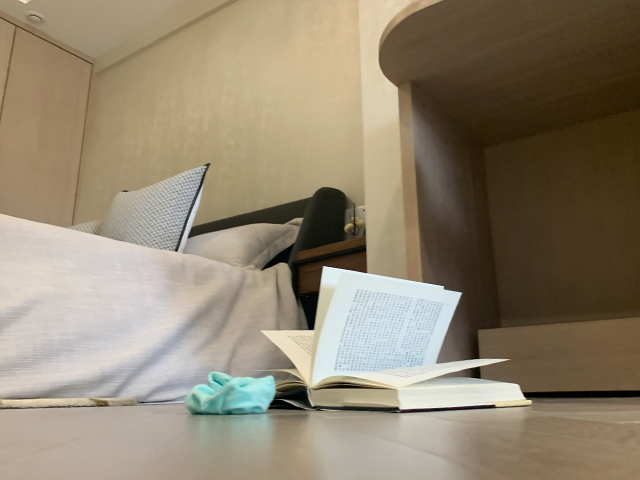bed: (1, 160, 349, 408)
book: (258, 264, 534, 415)
cabinet: (376, 1, 640, 398), (294, 235, 367, 298)
carpet: (1, 394, 141, 410)
socks: (183, 370, 278, 417)
